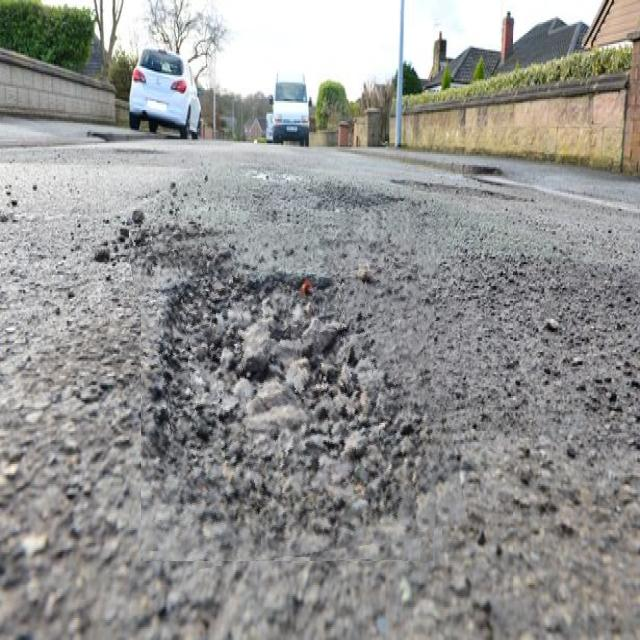Pothole: (141, 211, 455, 561)
